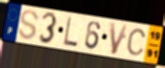3: (38, 12, 59, 46)
6: (84, 20, 101, 50)
C: (126, 28, 148, 57)
L: (62, 16, 79, 48)
S: (17, 9, 40, 42)
V: (109, 21, 130, 57)
